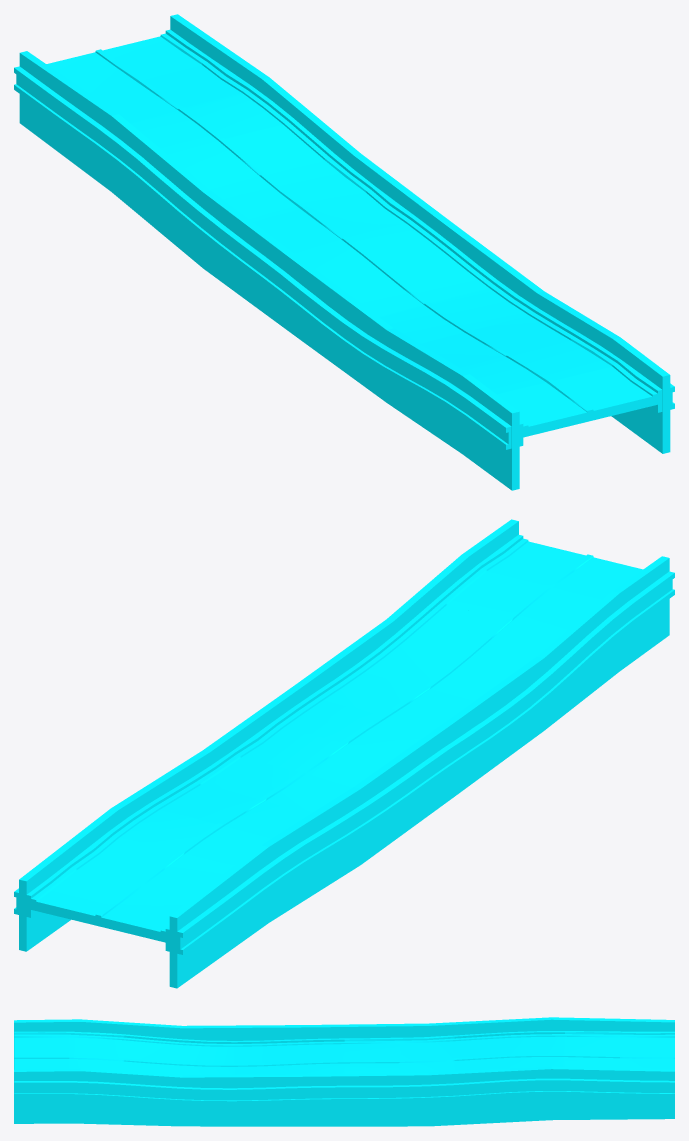
File: SM_Bld_Bridge_01_Collision.fbx
3 renders of one model, top to bottom at view 1: azimuth 30°, elevation 25°; view 2: azimuth 150°, elevation 25°; view 3: azimuth 270°, elevation 25°, orthographic. The views are drawn at different scales.
Parts seen in each view (by area): view 1: SM_Bld_Bridge_01_Collision; view 2: SM_Bld_Bridge_01_Collision; view 3: SM_Bld_Bridge_01_Collision.
Boxes of the visible parts, x1,y1,x2,y2 form: SM_Bld_Bridge_01_Collision: (14,14,674,490); SM_Bld_Bridge_01_Collision: (14,519,674,988); SM_Bld_Bridge_01_Collision: (14,1017,674,1126).
Bounding box in the file's own units: 2019 × 979 × 10200.
